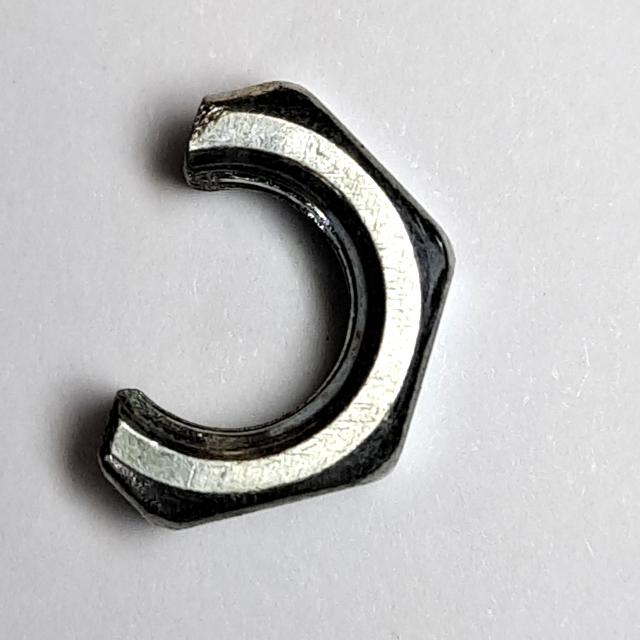Fracture: (81, 60, 469, 555)
